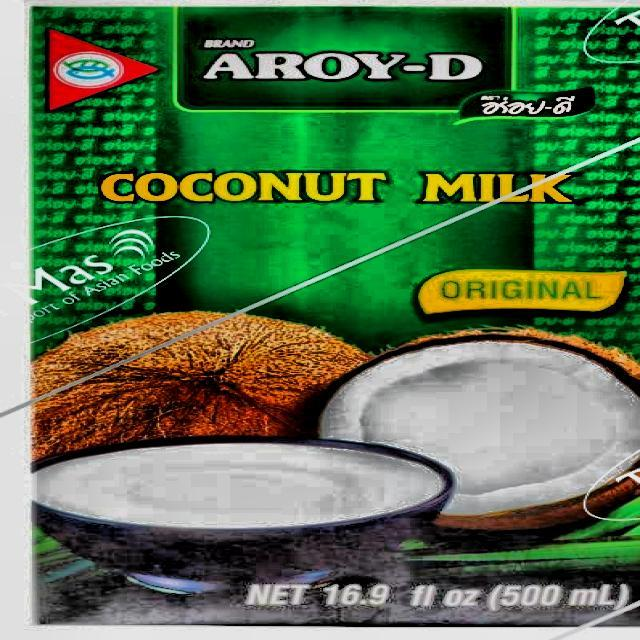cardboard: (25, 0, 640, 626)
